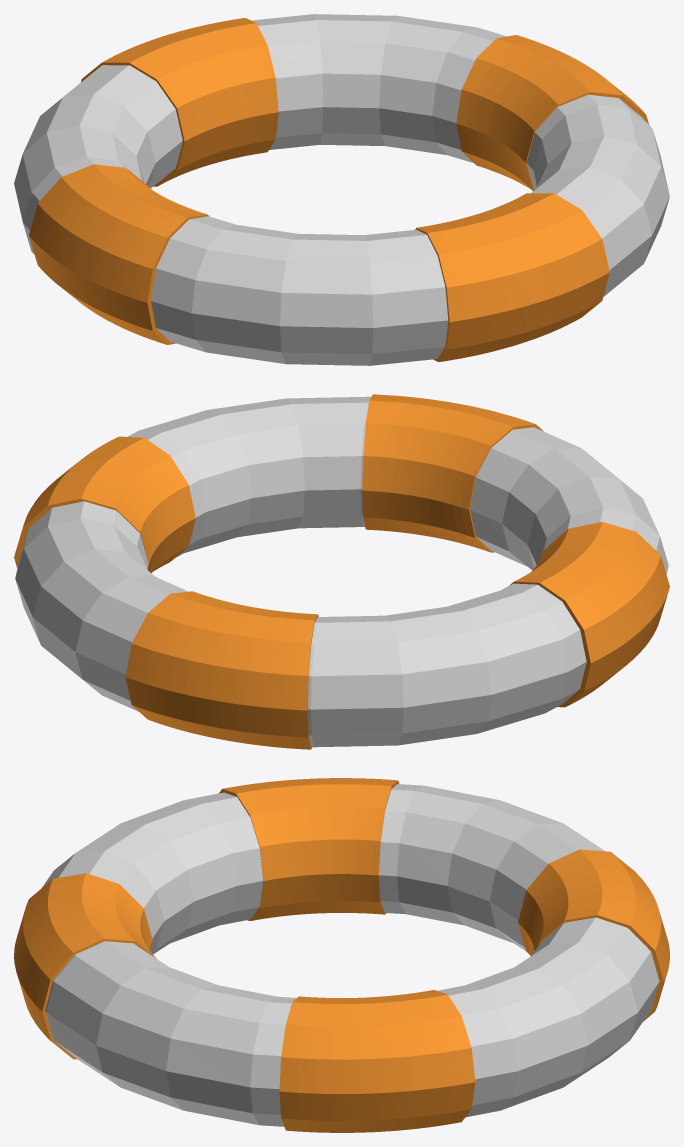
File: float.glb
3 views of the same model, one above another, from view 1: azimuth 30°, elevation 25°; view 2: azimuth 150°, elevation 25°; view 3: azimuth 270°, elevation 25° (orthographic).
Visible parts, largest first — view 1: Torus, Torus.1_0; view 2: Torus, Torus.1_0; view 3: Torus, Torus.1_0.
Boxes of the visible parts, x1=… form: Torus: x1=14, y1=14, x2=669, y2=365; Torus.1_0: x1=29, y1=18, x2=648, y2=361; Torus: x1=15, y1=396, x2=668, y2=747; Torus.1_0: x1=14, y1=394, x2=669, y2=749; Torus: x1=41, y1=784, x2=659, y2=1126; Torus.1_0: x1=14, y1=778, x2=669, y2=1132.
Size of the model in its own units: 253 by 52.09 by 253.
